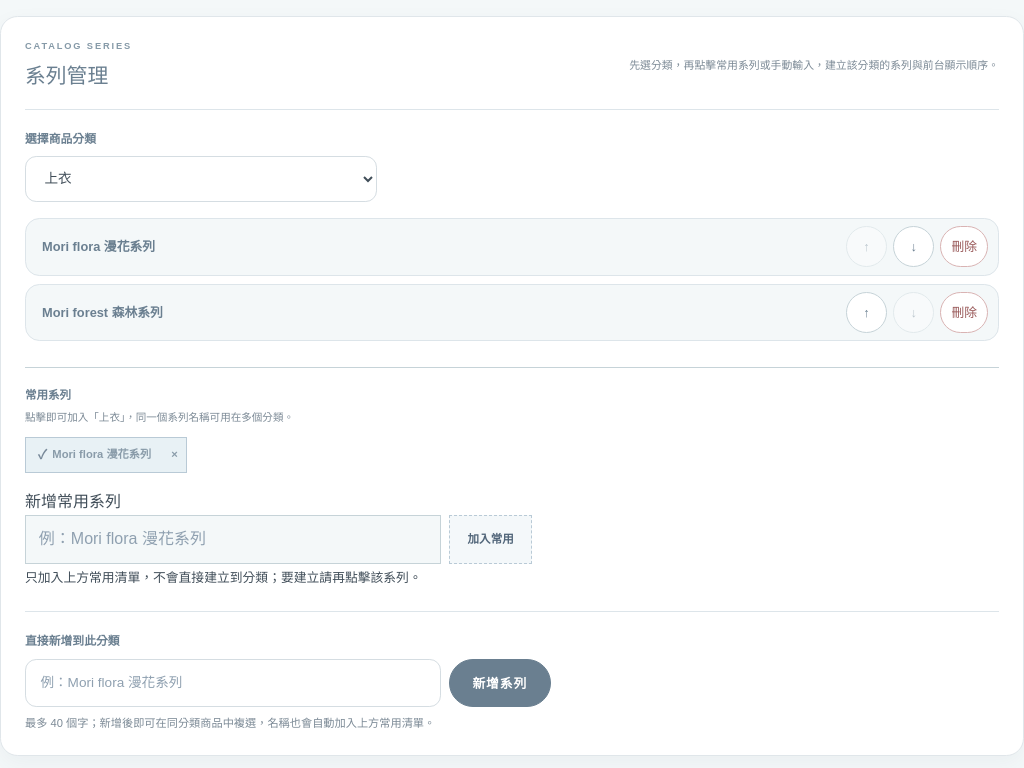
it: series manager › re-targets the preset chips when the category changes
Expected: the button with aria-label "此分類已加入" is shown, [26,438,159,472]
Select "褲裝" in the dropdown labelled "選擇商品分類": point(201, 179) [25,156,377,202]
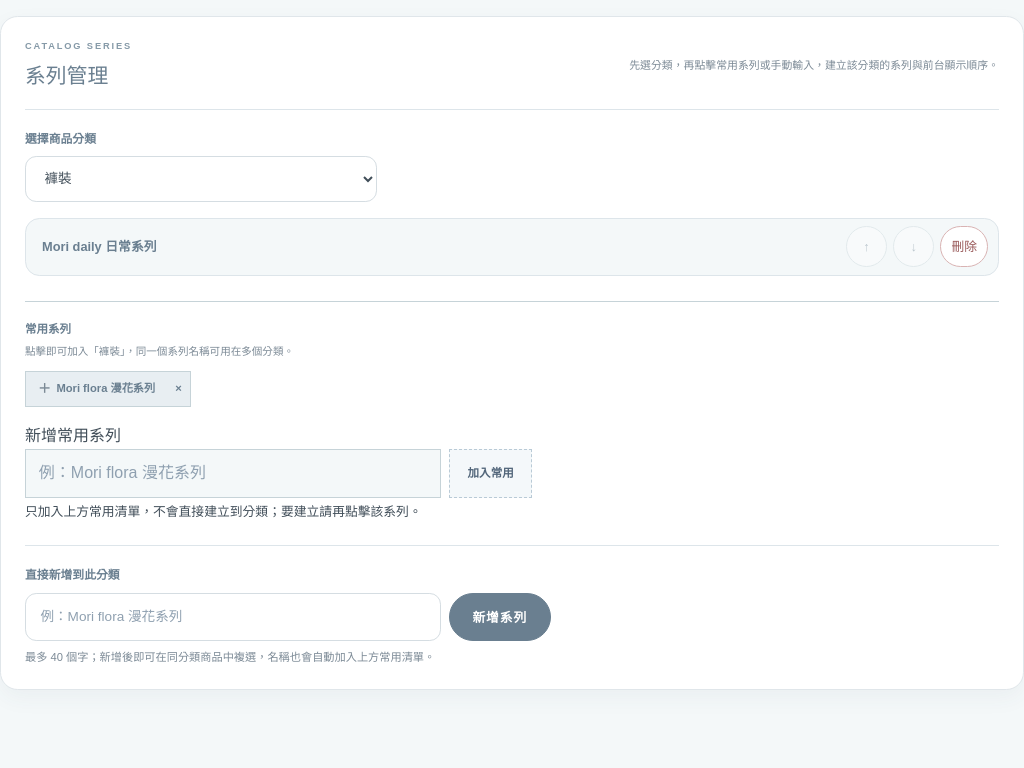
Now the button with aria-label "將 Mori flora 漫花系列 加入 褲裝" is enabled, box [26,372,163,406]
